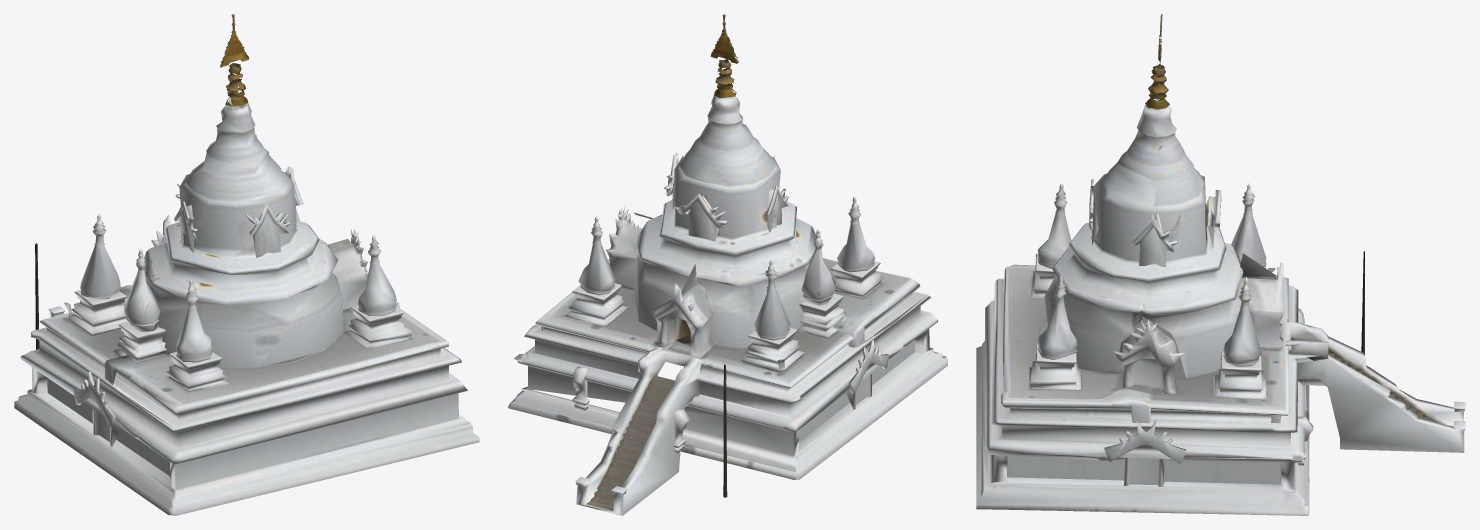
Rendered from burmese_pagoda.glb.
The picture shows the model from 3 angles, left to right: view 1: azimuth 30°, elevation 25°; view 2: azimuth 150°, elevation 25°; view 3: azimuth 270°, elevation 25°; orthographic projection. The views are drawn at different scales.
Parts seen in each view (by area): view 1: Body, Trim; view 2: Body, Trim; view 3: Body, Trim.
Boxes of the visible parts, x1,y1,x2,y2 form: Body: (14, 99, 479, 515); Trim: (220, 14, 249, 106); Body: (508, 95, 947, 515); Trim: (710, 14, 738, 98); Body: (976, 105, 1465, 515); Trim: (1145, 14, 1169, 109).
Bounding box in the file's own units: 15.76 × 20.25 × 20.69.
Materials: 2 (2 with a texture image).
